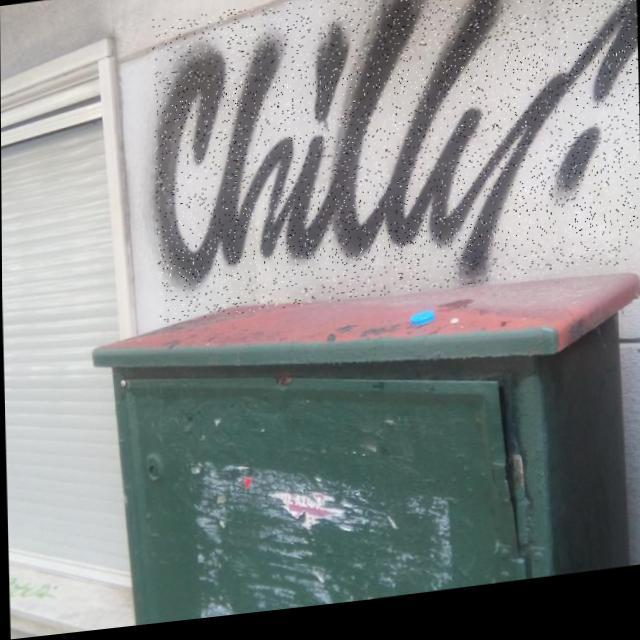-: (151, 0, 640, 327)
